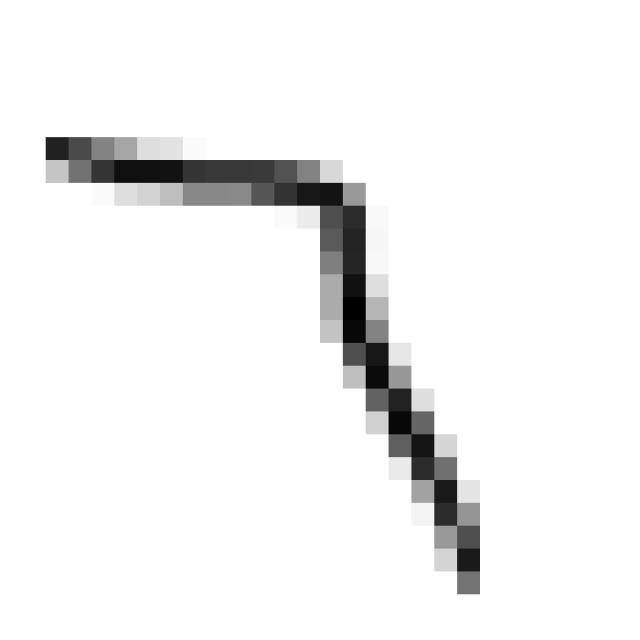6 -six-: (29, 123, 494, 608)
